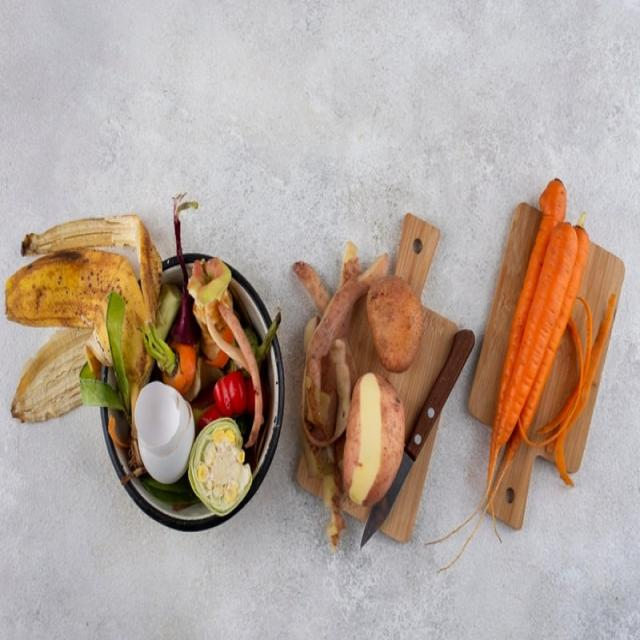organic: (474, 173, 622, 516), (8, 194, 164, 384), (290, 247, 375, 426), (335, 366, 412, 510), (361, 266, 430, 374), (187, 417, 257, 516), (207, 364, 264, 425), (181, 254, 237, 308)
